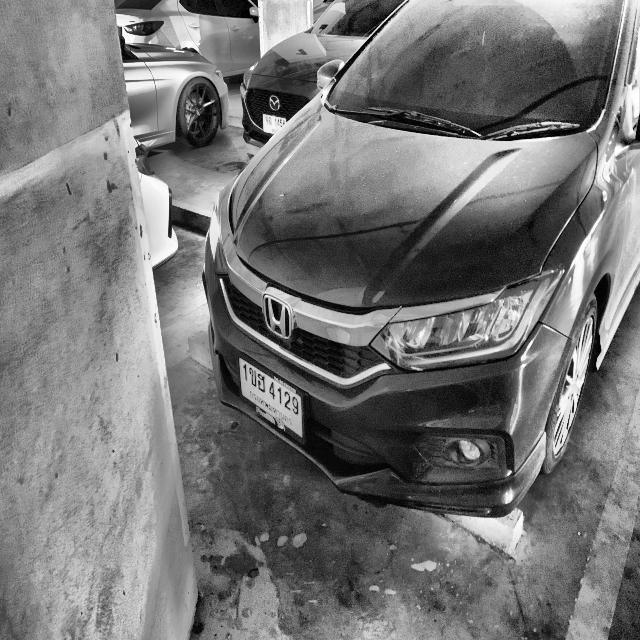license-plate: (238, 354, 306, 434), (263, 111, 288, 138)
